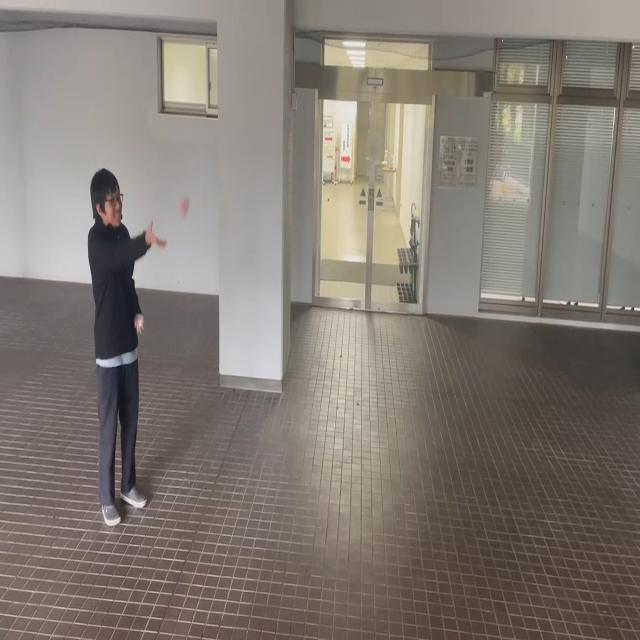paper: (180, 196, 190, 218), (135, 314, 144, 328)
